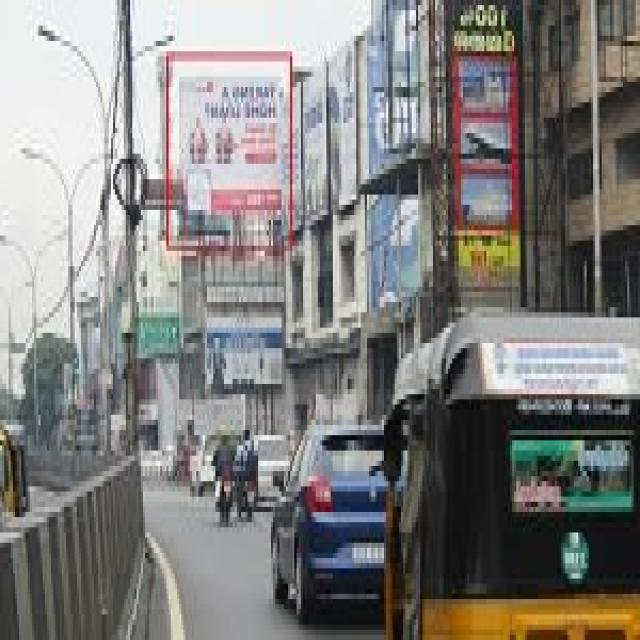Werbetafel frei: (178, 64, 284, 243)
